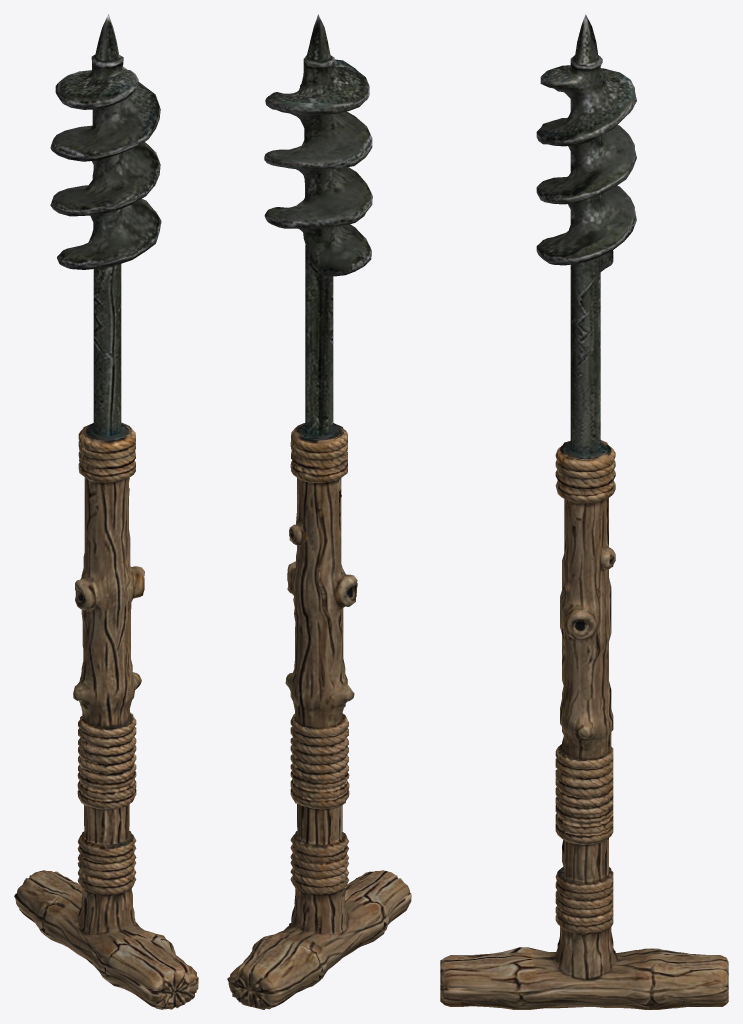
Rendered from ice_auger.glb.
The picture shows the model from 3 angles, left to right: view 1: azimuth 30°, elevation 25°; view 2: azimuth 150°, elevation 25°; view 3: azimuth 270°, elevation 25°; orthographic projection. The views are drawn at different scales.
Parts seen in each view (by area): view 1: ice_auger; view 2: ice_auger; view 3: ice_auger.
Boxes of the visible parts, box(x1,y1,x2,y2) form: ice_auger: box(14, 14, 198, 1009); ice_auger: box(227, 14, 411, 1009); ice_auger: box(440, 14, 728, 1009).
Bounding box in the file's own units: 0.1616 × 1.5 × 0.3963.
Materials: 1 (1 with a texture image).
